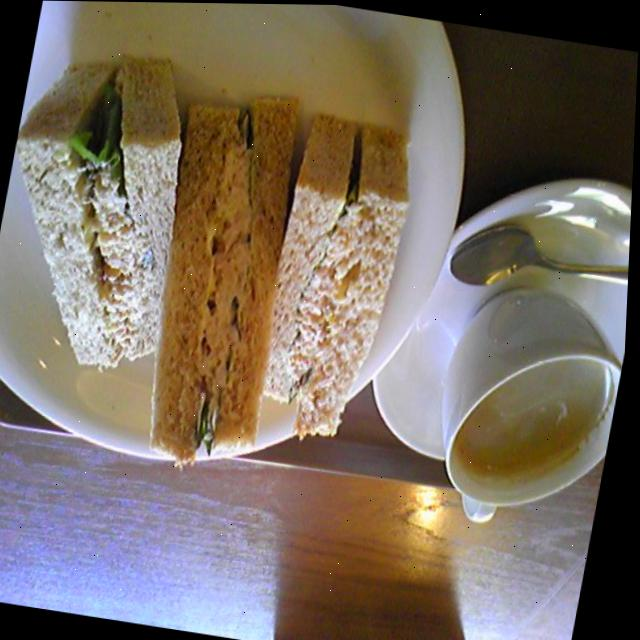三明治: (0, 24, 439, 498)
